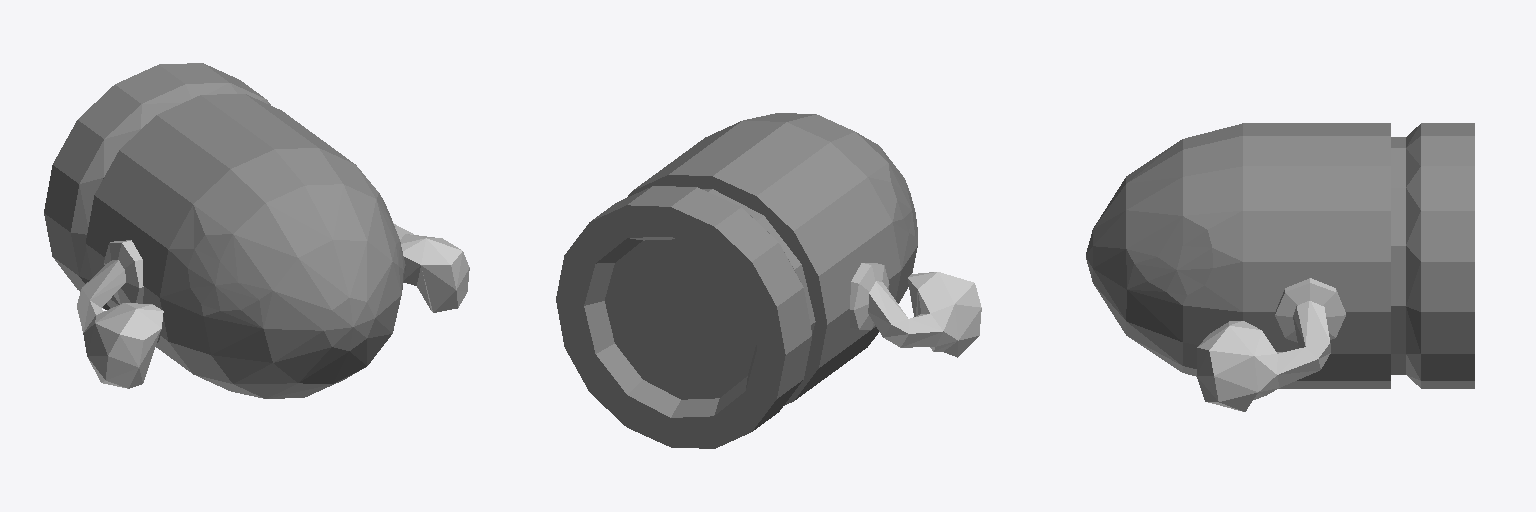
The model's file is BulletBill.obj.
3 renders of one model, left to right at view 1: azimuth 30°, elevation 25°; view 2: azimuth 150°, elevation 25°; view 3: azimuth 270°, elevation 25°, orthographic.
Visible parts, largest first — view 1: Killer, ID17; view 2: Killer, ID17; view 3: Killer, ID17.
Part boxes in pixels (bbox=[...]): Killer: bbox=[44, 63, 405, 398]; ID17: bbox=[77, 223, 469, 388]; Killer: bbox=[556, 113, 917, 448]; ID17: bbox=[850, 263, 981, 357]; Killer: bbox=[1086, 123, 1474, 388]; ID17: bbox=[1197, 278, 1345, 411].
Size of the model in its own units: 153 by 97.41 by 143.